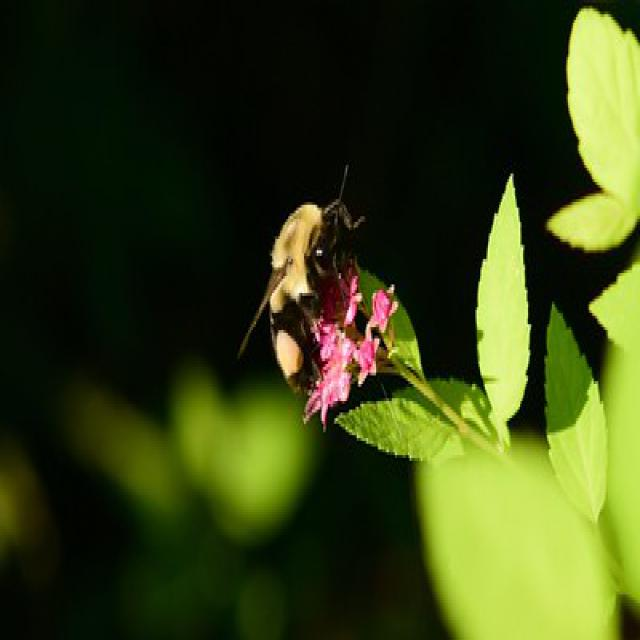Abeille: (225, 160, 386, 413)
